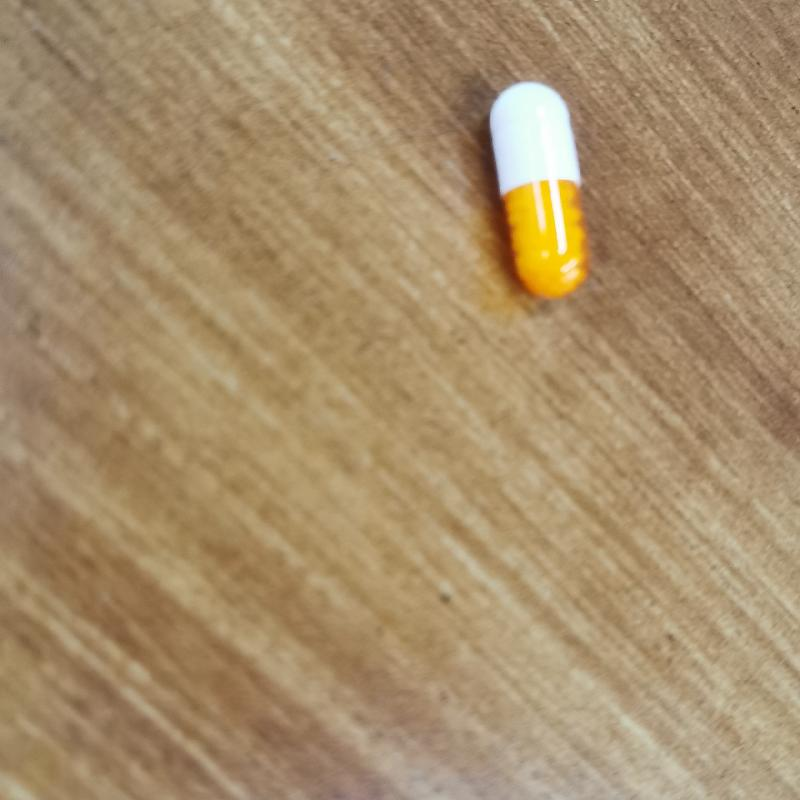pills: (478, 68, 594, 304)
